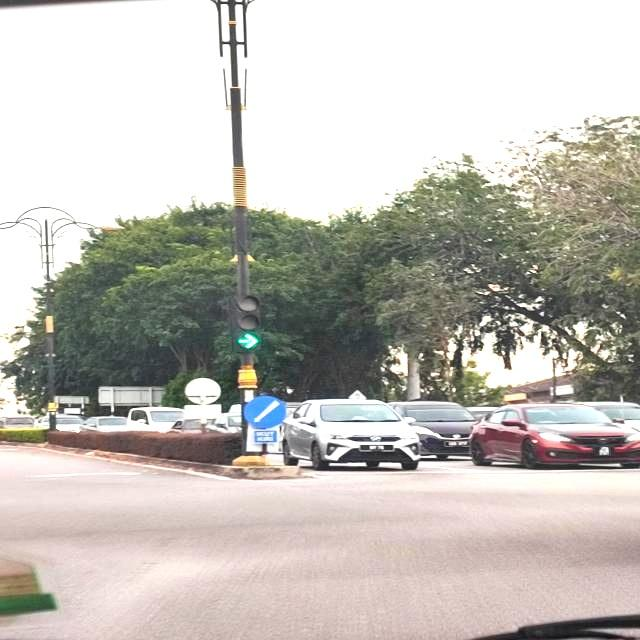Green: (234, 294, 262, 356)
